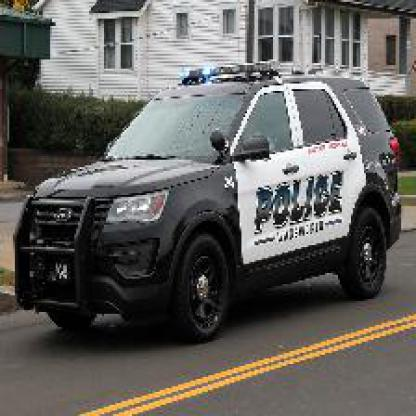emergency: (22, 63, 414, 329)
